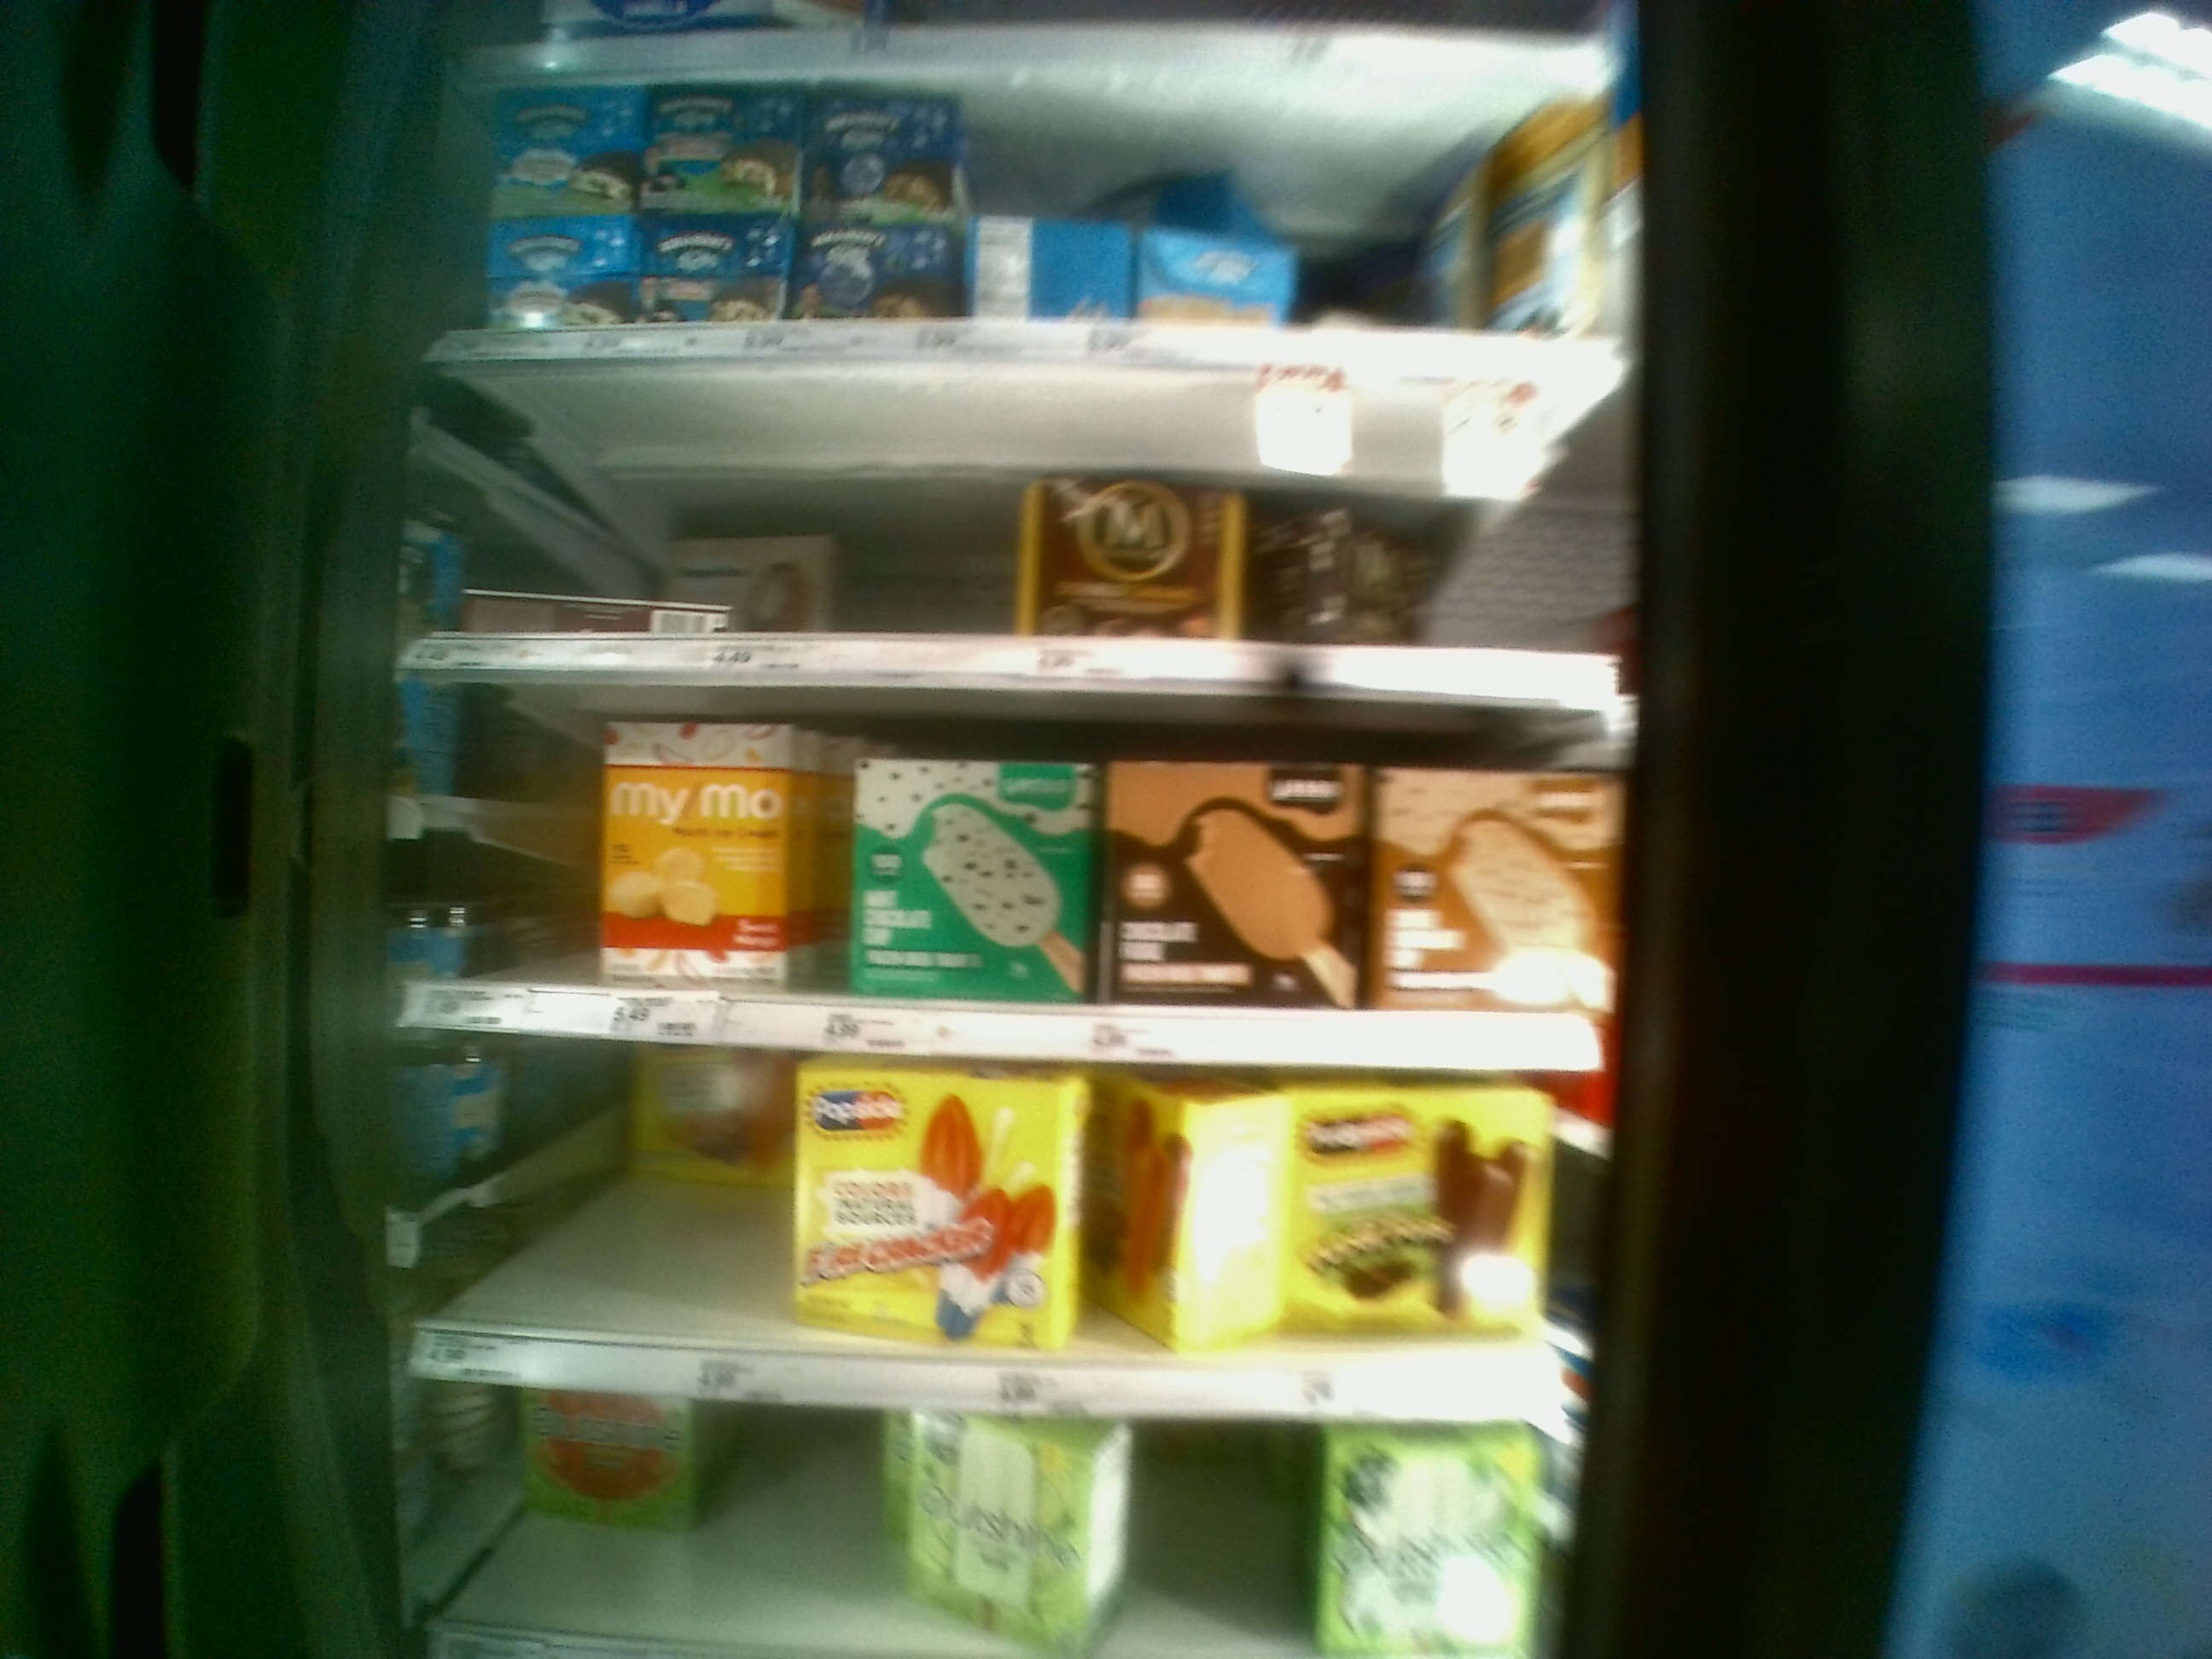ice-cream-shelf: (395, 676, 1609, 1065), (401, 1033, 1601, 1419), (425, 361, 1634, 681)
